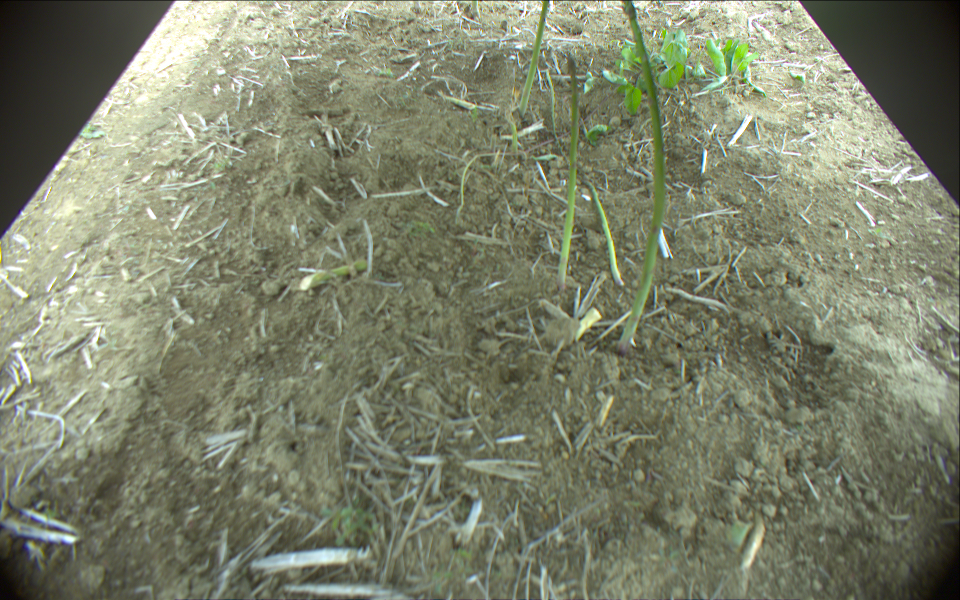aspa: (620, 1, 668, 352), (555, 54, 584, 289), (580, 176, 629, 289), (519, 1, 551, 118), (294, 260, 366, 293), (507, 109, 521, 156)
